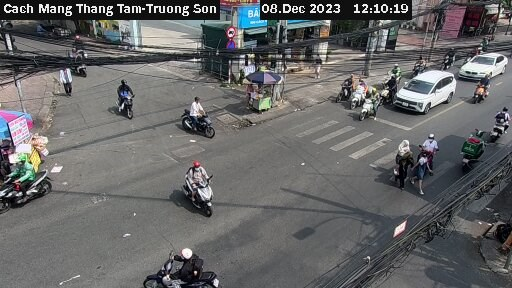car: (398, 68, 452, 120), (455, 51, 504, 83)
motorbike: (141, 249, 222, 286), (174, 162, 225, 214), (1, 163, 56, 209), (106, 81, 151, 118), (177, 102, 221, 138), (452, 127, 488, 169), (488, 104, 512, 142), (362, 93, 392, 123), (467, 73, 497, 102), (331, 74, 360, 100), (377, 63, 404, 89)
